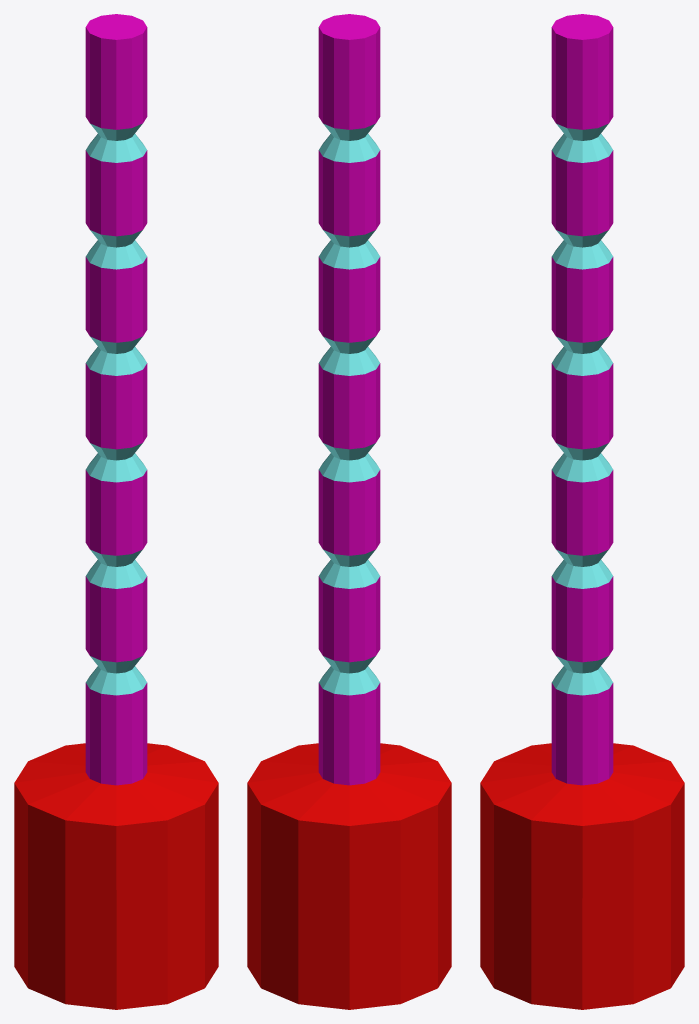
Rendered from SpinningMallet 1.fbx.
The picture shows the model from 3 angles, left to right: view 1: azimuth 30°, elevation 25°; view 2: azimuth 150°, elevation 25°; view 3: azimuth 270°, elevation 25°; orthographic projection.
Parts seen in each view (by area): view 1: Cylinder; view 2: Cylinder; view 3: Cylinder.
Boxes of the visible parts, x1,y1,x2,y2 form: Cylinder: (14,14,218,1009); Cylinder: (247,14,451,1009); Cylinder: (480,14,684,1009).
Bounding box in the file's own units: 665 × 3375 × 665.
